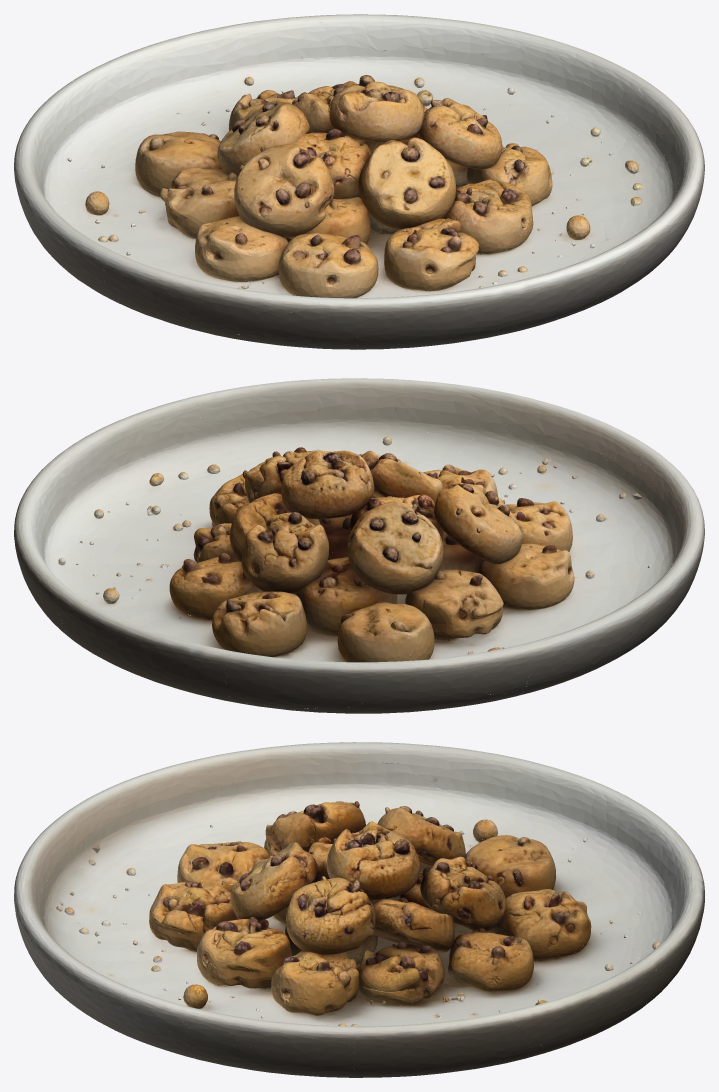
The model's file is minicookies.glb.
3 renders of one model, top to bottom at view 1: azimuth 30°, elevation 25°; view 2: azimuth 150°, elevation 25°; view 3: azimuth 270°, elevation 25°, orthographic.
Visible parts, largest first — view 1: tripo_node_656611a3-b544-490b-bd62-5e5a34c23708; view 2: tripo_node_656611a3-b544-490b-bd62-5e5a34c23708; view 3: tripo_node_656611a3-b544-490b-bd62-5e5a34c23708.
Boxes of the visible parts, x1,y1,x2,y2 form: tripo_node_656611a3-b544-490b-bd62-5e5a34c23708: (14, 14, 704, 349); tripo_node_656611a3-b544-490b-bd62-5e5a34c23708: (14, 378, 704, 713); tripo_node_656611a3-b544-490b-bd62-5e5a34c23708: (14, 742, 704, 1077).
Size of the model in its own units: 0.9803 by 0.2098 by 0.979.
1 material, 1 textured.
